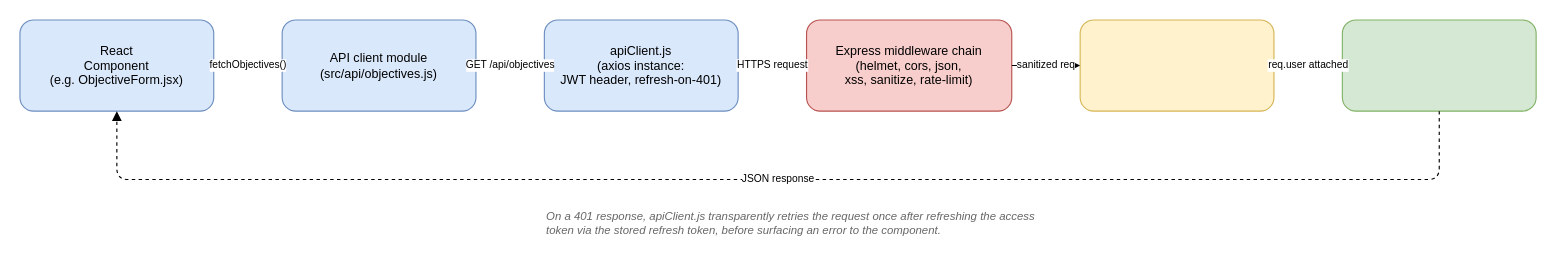
The diagram is 1556 pixels wide and 279 high, and some of its shapes have lost their labels. The shapes that lost their labels are listed below. From the top down, each one's box as (x1, y1, x2, y2) in pixels, then its label:
(1079, 19, 1274, 111): auth.js / role.js / ownership.js (per-route access control)
(1341, 19, 1536, 111): objectiveController -> Mongoose Model -> MongoDB
